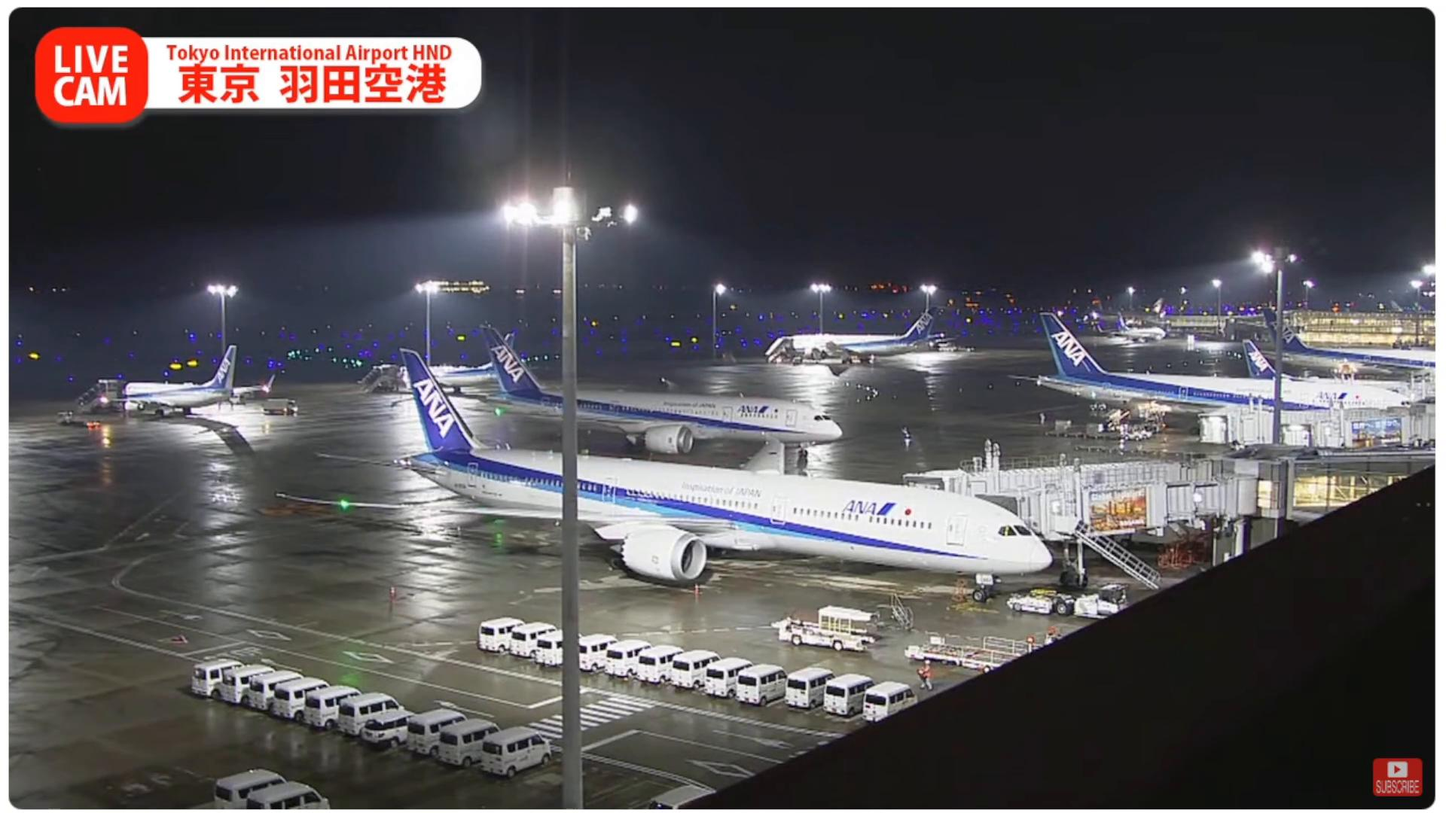Aerobridge: (899, 456, 1287, 522), (991, 479, 1253, 538)
Airplane: (274, 346, 1056, 587)
JCPL: (892, 635, 1020, 672), (920, 621, 1055, 654)
Skyloader: (754, 595, 900, 655)
Tow Tug: (999, 579, 1138, 626)
Window: (1290, 451, 1437, 524)
